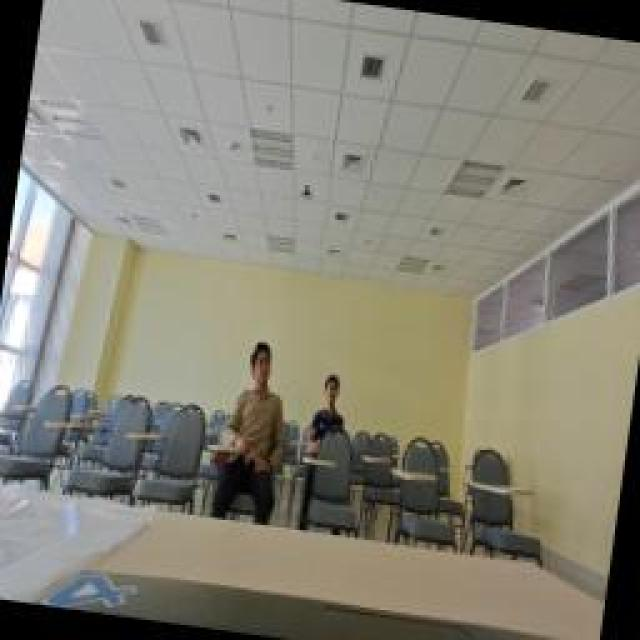study: (205, 335, 297, 525), (300, 362, 348, 460)
